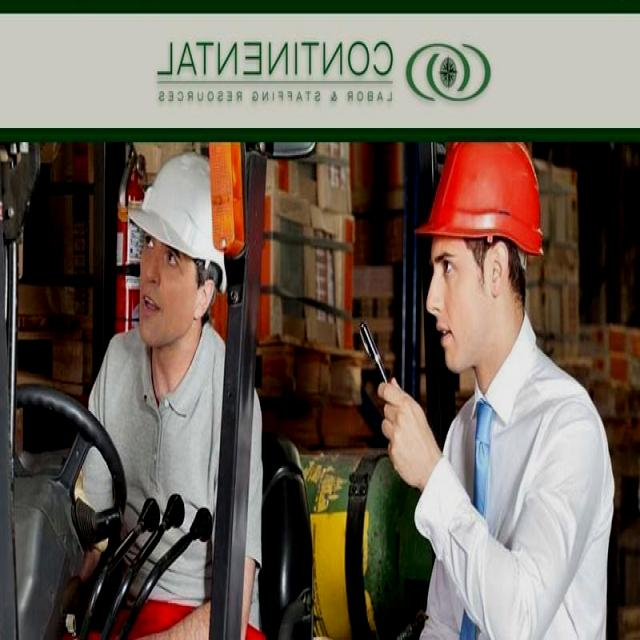face_nomask: (419, 229, 504, 370), (121, 235, 203, 351)
hand_noglove: (354, 382, 444, 490)
head_helmet: (115, 138, 246, 272), (404, 132, 538, 246)
person: (384, 138, 608, 640), (44, 138, 266, 640)
